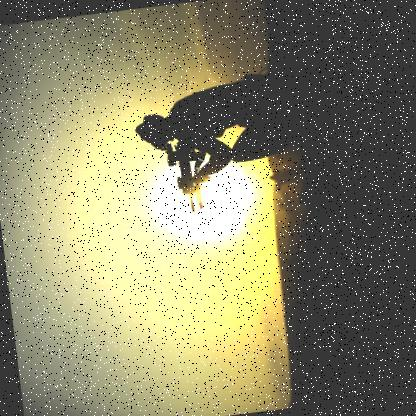rifle: (158, 130, 218, 217)
